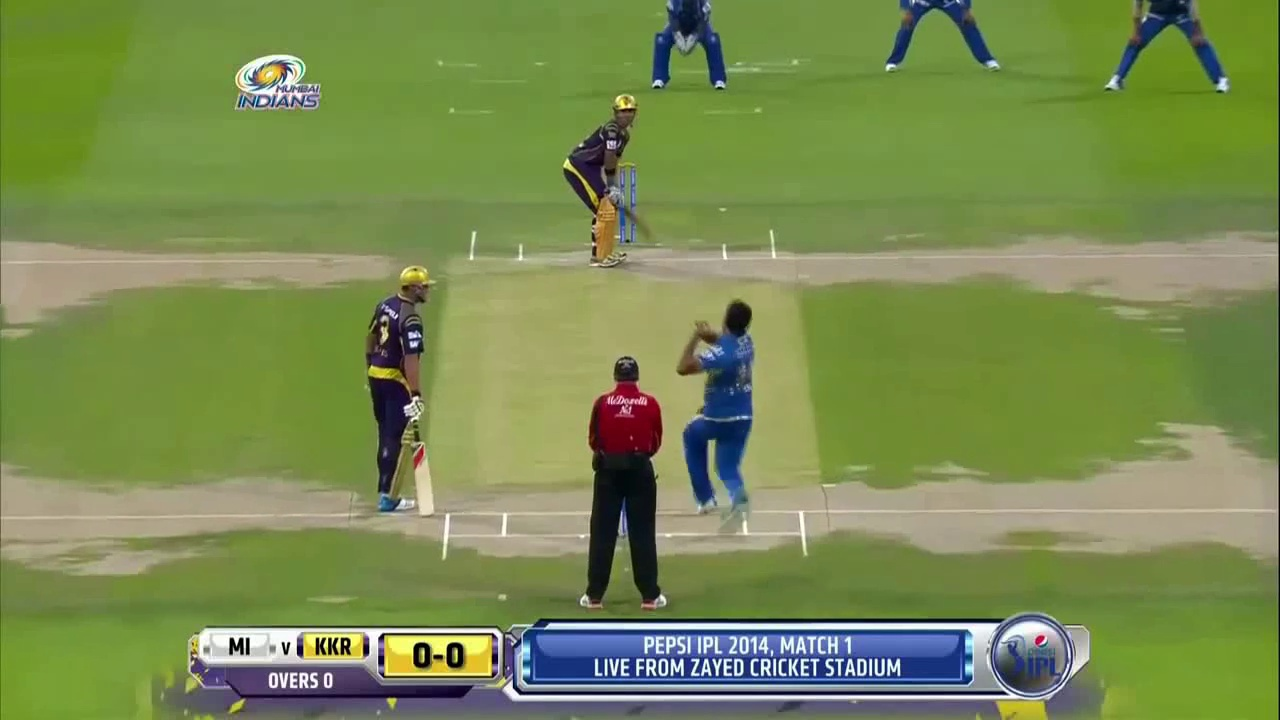bat: (408, 438, 438, 518)
